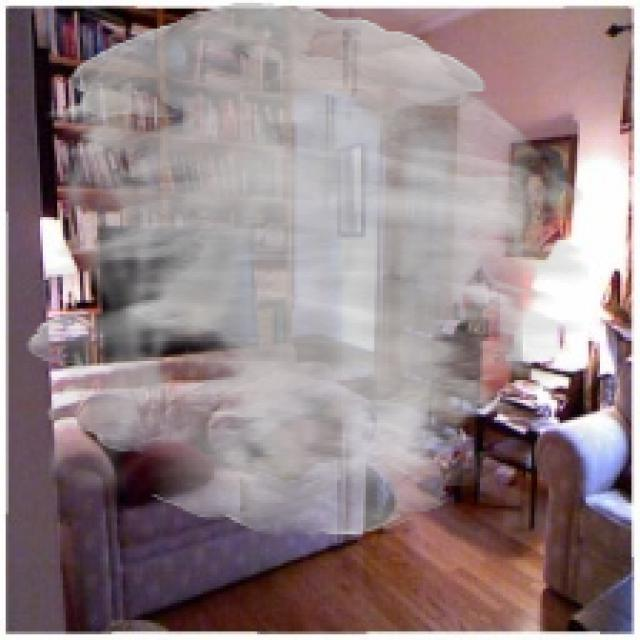smoke: (26, 3, 588, 537)
